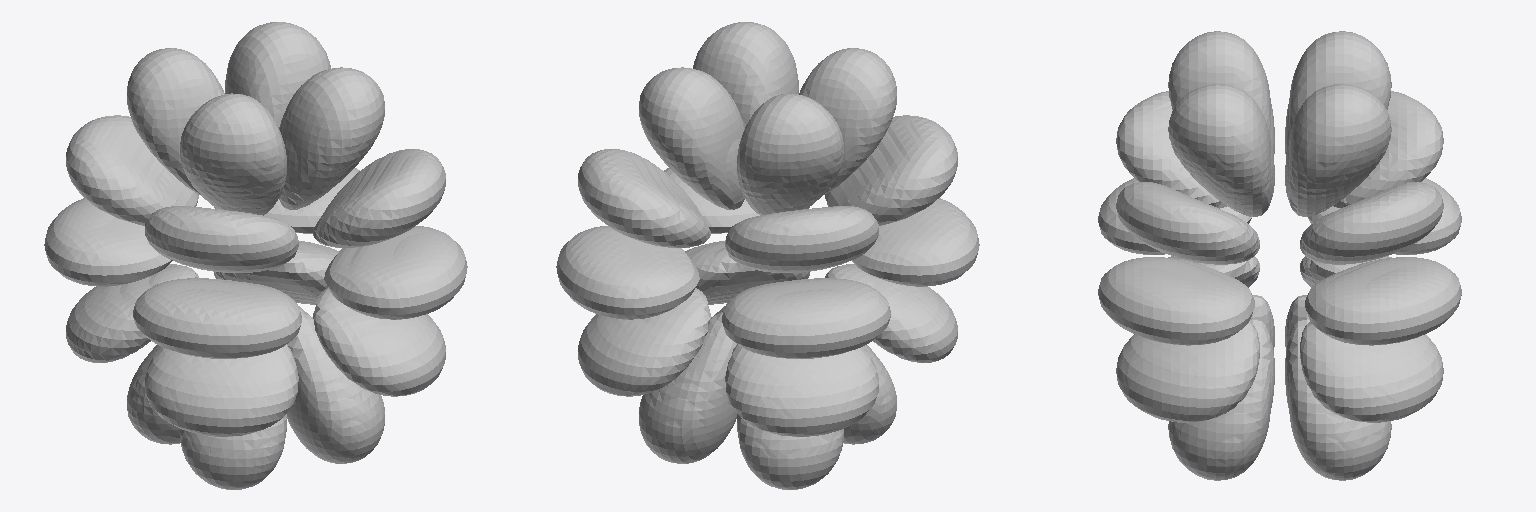
File: orb_n=7_ l=6 _m=-2.obj
3 views of the same model, side by side, from view 1: azimuth 30°, elevation 25°; view 2: azimuth 150°, elevation 25°; view 3: azimuth 270°, elevation 25° (orthographic).
Visible parts, largest first — view 1: orb_n=7__l=6__m=-2; view 2: orb_n=7__l=6__m=-2; view 3: orb_n=7__l=6__m=-2.
Part boxes in pixels (left/top/right/bottom): orb_n=7__l=6__m=-2: left=44, top=22, right=467, bottom=489; orb_n=7__l=6__m=-2: left=556, top=22, right=979, bottom=489; orb_n=7__l=6__m=-2: left=1098, top=31, right=1461, bottom=480.
Bounding box in the file's own units: 133 × 157 × 133.